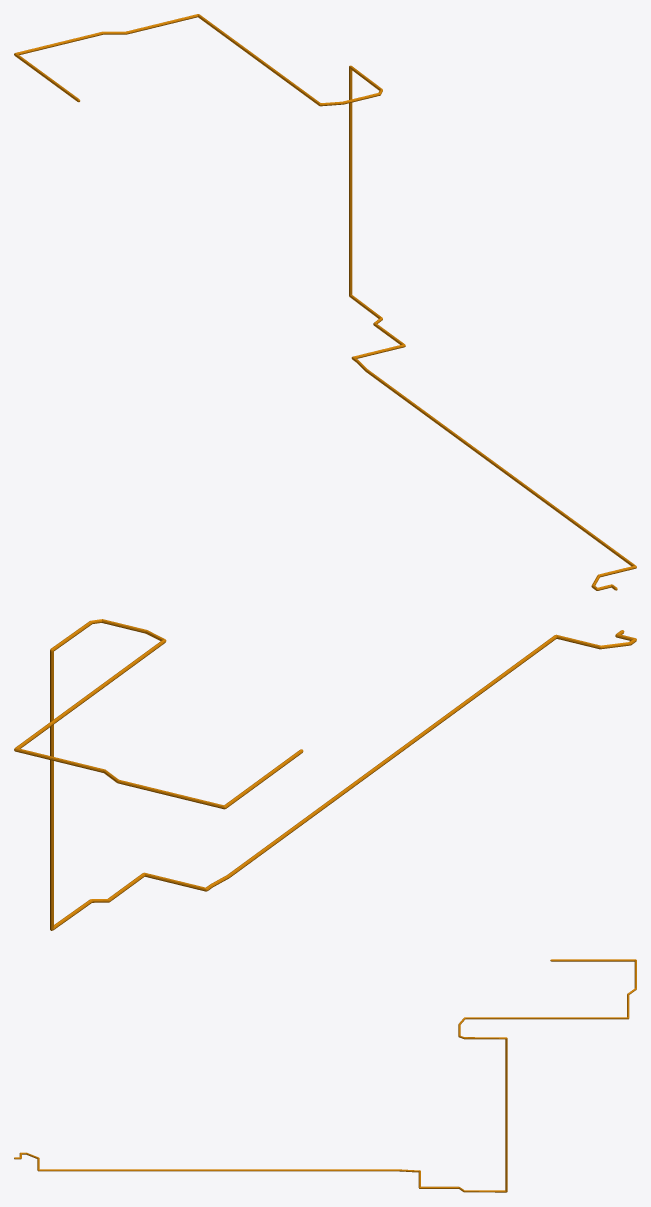
3 views of the same model, one above another, from view 1: azimuth 30°, elevation 25°; view 2: azimuth 150°, elevation 25°; view 3: azimuth 270°, elevation 25° (orthographic). The views are drawn at different scales.
Size of the model in its own units: 1657 by 1520 by 5532.
